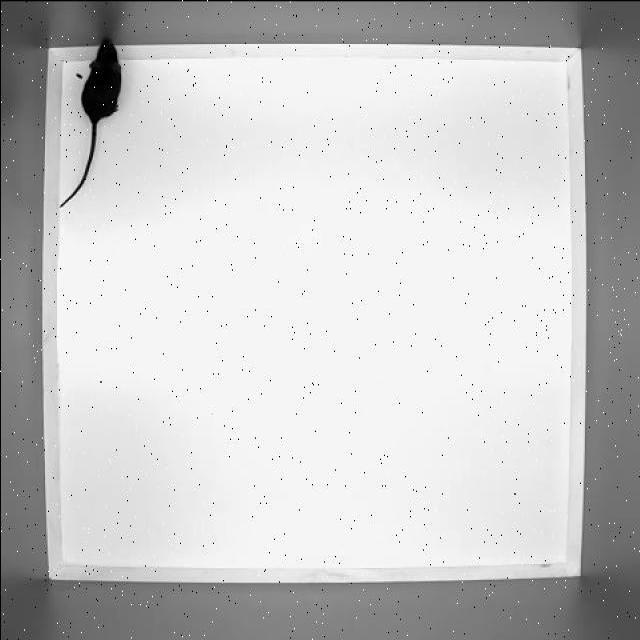rat: (59, 35, 119, 208)
